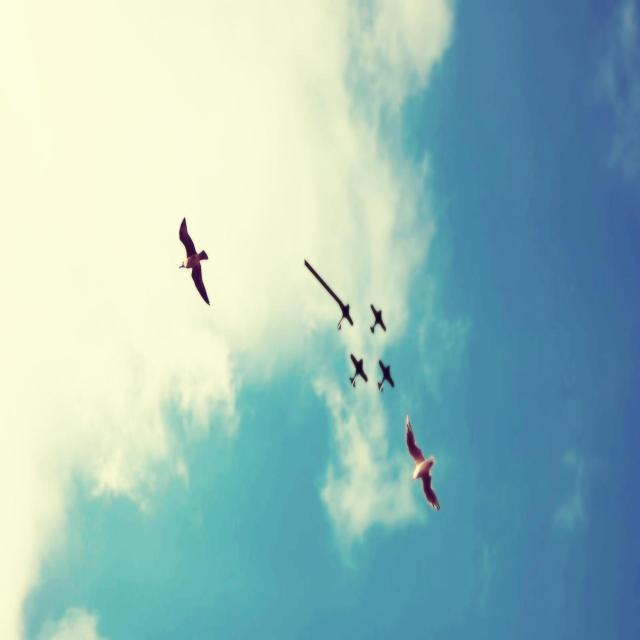airplane: (304, 258, 354, 330), (349, 353, 368, 387), (377, 358, 394, 392), (370, 302, 386, 334)
